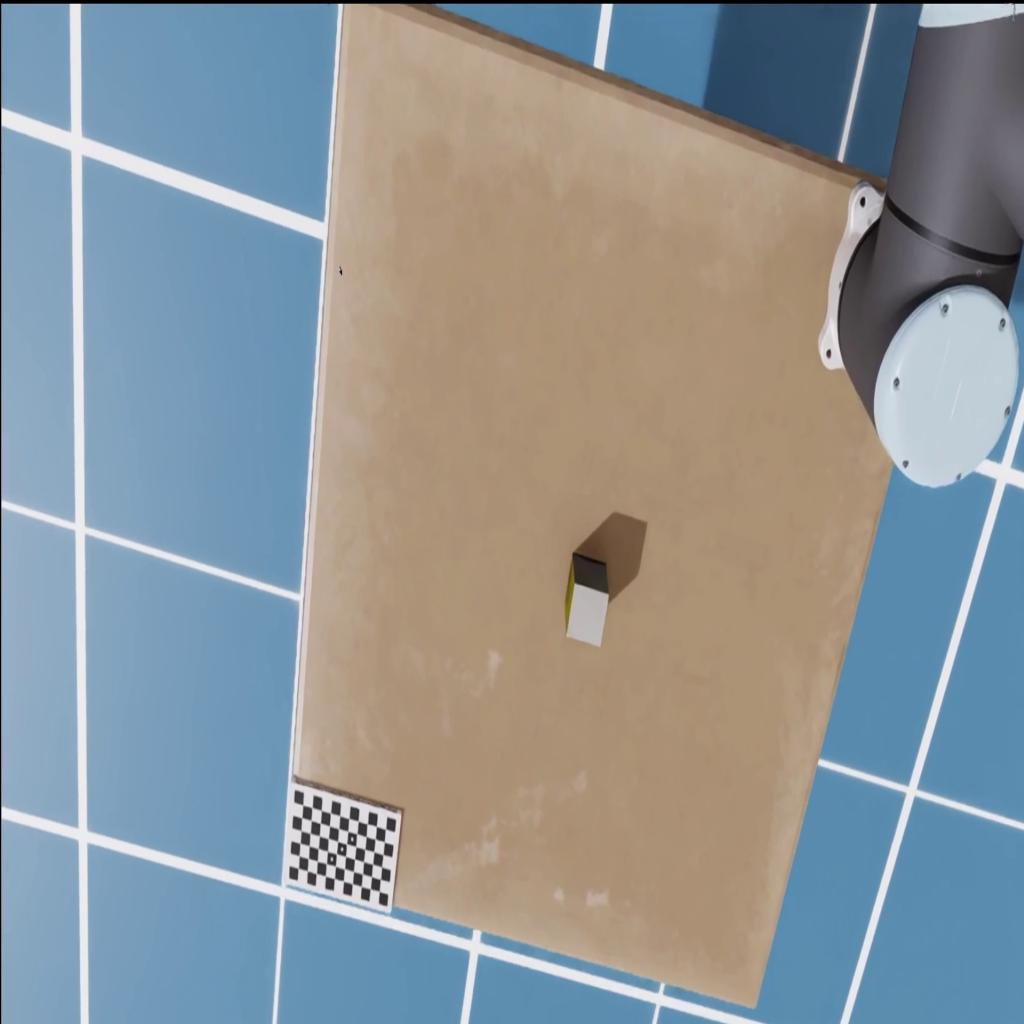Cube: (564, 552, 610, 648)
QR: (282, 776, 402, 914)
Robot: (818, 2, 1024, 490)
Table: (284, 4, 900, 1009)
